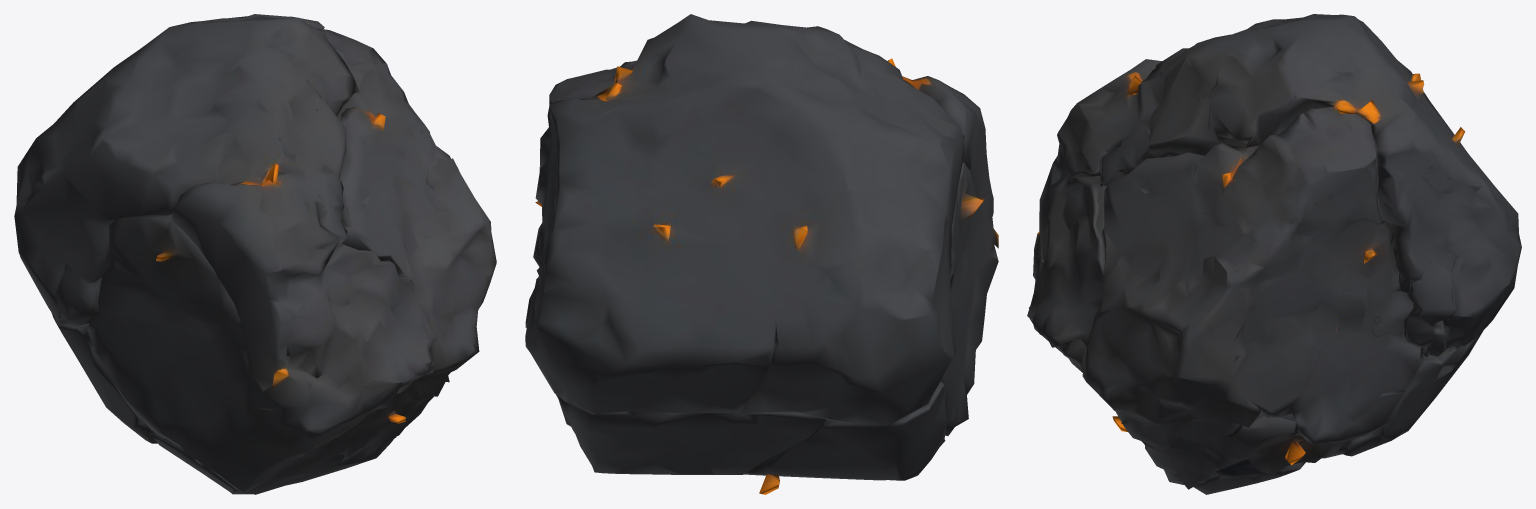
Rendered from flying_rock.glb.
3 renders of one model, left to right at view 1: azimuth 30°, elevation 25°; view 2: azimuth 150°, elevation 25°; view 3: azimuth 270°, elevation 25°, orthographic. The views are drawn at different scales.
Visible parts, largest first — view 1: tripo_node_96b5a3e9-9b5e-4e11-bcfa-4f4617bcbd2a; view 2: tripo_node_96b5a3e9-9b5e-4e11-bcfa-4f4617bcbd2a; view 3: tripo_node_96b5a3e9-9b5e-4e11-bcfa-4f4617bcbd2a.
Boxes of the visible parts, <box> form: tripo_node_96b5a3e9-9b5e-4e11-bcfa-4f4617bcbd2a: <box>14,14,496,494</box>; tripo_node_96b5a3e9-9b5e-4e11-bcfa-4f4617bcbd2a: <box>525,14,998,494</box>; tripo_node_96b5a3e9-9b5e-4e11-bcfa-4f4617bcbd2a: <box>1027,14,1521,494</box>.
Bounding box in the file's own units: 0.946 × 0.9742 × 1.
1 material, 1 textured.
